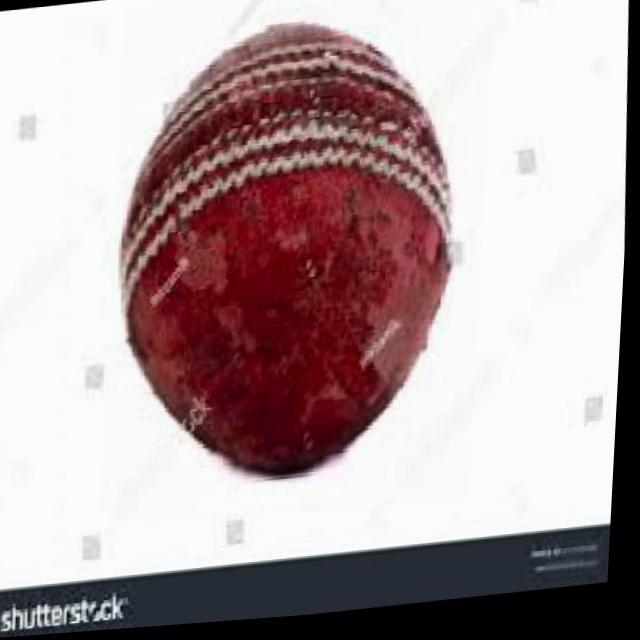-: (104, 0, 495, 531)
